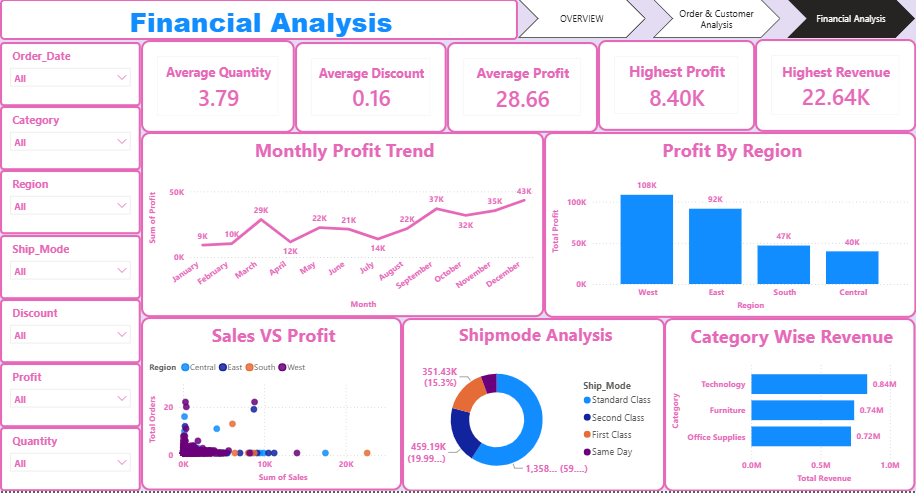

The page's visual inventory and layout, read from the dashboard file:
{"tool":"powerbi","page":{"name":"Financial Analysis","canvas":[1340,720],"ordinal":2},"visuals":[{"type":"pageNavigator","box":[758,0,582.6,58],"z":0},{"type":"shape","title":"Financial Analysis","box":[0,0,758,60],"z":1000},{"type":"slicer","fields":{"Values":["Sheet1.Order_Date"]},"box":[0,62.9,206.3,93.7],"z":1001},{"type":"slicer","fields":{"Values":["Sheet1.Category"]},"box":[0,156.5,206.3,93.7],"z":1002},{"type":"slicer","fields":{"Values":["Sheet1.Region"]},"box":[0,250.7,206.3,93.7],"z":1003},{"type":"slicer","fields":{"Values":["Sheet1.Ship_Mode"]},"box":[0,344.9,206.3,93.7],"z":1004},{"type":"slicer","fields":{"Values":["Sheet1.Discount"]},"box":[0,439.1,206.3,93.7],"z":1005},{"type":"slicer","fields":{"Values":["Sheet1.Profit"]},"box":[0,533.3,206.3,93.7],"z":1006},{"type":"slicer","fields":{"Values":["Sheet1.Quantity"]},"box":[0,626.1,206.3,93.7],"z":1007},{"type":"cardVisual","fields":{"Data":["Sheet1.Average Quantity"]},"box":[206,59.7,225.4,135.8],"z":1008},{"type":"cardVisual","fields":{"Data":["Sheet1.Avearage Discount"]},"box":[431.3,62.7,222.4,132.8],"z":1009},{"type":"cardVisual","fields":{"Data":["Sheet1.Avberage Profit"]},"box":[653.7,61.2,220.9,132.8],"z":1010},{"type":"cardVisual","fields":{"Data":["Sheet1.Highest Profit"]},"box":[874.6,59.7,229.9,132.8],"z":1011},{"type":"lineChart","title":"Monthly Profit Trend","fields":{"Category":["Sheet1.Order_Date.Variation.Date Hierarchy.Month"],"Y":["Sum(Sheet1.Profit)"]},"box":[205.8,195.7,589.9,271],"z":1013},{"type":"clusteredBarChart","title":" Profit  By Region","fields":{"Y":["CountNonNull(Sheet1.Region)"],"Category":["Sheet1.Profit"]},"box":[795.7,194.2,544.9,272.5],"z":1014},{"type":"scatterChart","title":"Sales VS Profit","fields":{"X":["Sum(Sheet1.Sales)"],"Y":["Sum(Sheet1.Profit)"]},"box":[206,465.7,382.1,253.7],"z":1015},{"type":"donutChart","title":"Shipmode Analysis","fields":{"Category":["Sheet1.Ship_Mode"],"Y":["Sum(Sheet1.Sales)"]},"box":[588.1,467.2,385.1,253.7],"z":1016},{"type":"barChart","title":"Category Wise Revenue","fields":{"Category":["Sheet1.Category"],"Y":["Sheet1.Total Revenue"]},"box":[972.5,466.7,368.1,253.6],"z":1017},{"type":"cardVisual","fields":{"Data":["Sheet1.Highest Revenue"]},"box":[1104.5,58.2,235.8,135.8],"z":1018}]}

Visuals, with their boxes in screenshot pixels (x1, y1, x2, y2), scaled from the page's 1340x720 canvas onto the 916x493 screenshot:
pageNavigator: locate(518, 0, 915, 40)
"Financial Analysis" shape: locate(0, 0, 518, 41)
slicer - Sheet1.Order_Date: locate(0, 43, 141, 107)
slicer - Sheet1.Category: locate(0, 107, 141, 171)
slicer - Sheet1.Region: locate(0, 172, 141, 236)
slicer - Sheet1.Ship_Mode: locate(0, 236, 141, 300)
slicer - Sheet1.Discount: locate(0, 301, 141, 365)
slicer - Sheet1.Profit: locate(0, 365, 141, 429)
slicer - Sheet1.Quantity: locate(0, 429, 141, 492)
cardVisual - Sheet1.Average Quantity: locate(141, 41, 295, 134)
cardVisual - Sheet1.Avearage Discount: locate(295, 43, 447, 134)
cardVisual - Sheet1.Avberage Profit: locate(447, 42, 598, 133)
cardVisual - Sheet1.Highest Profit: locate(598, 41, 755, 132)
"Monthly Profit Trend" lineChart: locate(141, 134, 544, 320)
" Profit  By Region" clusteredBarChart: locate(544, 133, 915, 320)
"Sales VS Profit" scatterChart: locate(141, 319, 402, 492)
"Shipmode Analysis" donutChart: locate(402, 320, 665, 492)
"Category Wise Revenue" barChart: locate(665, 320, 915, 492)
cardVisual - Sheet1.Highest Revenue: locate(755, 40, 915, 133)
